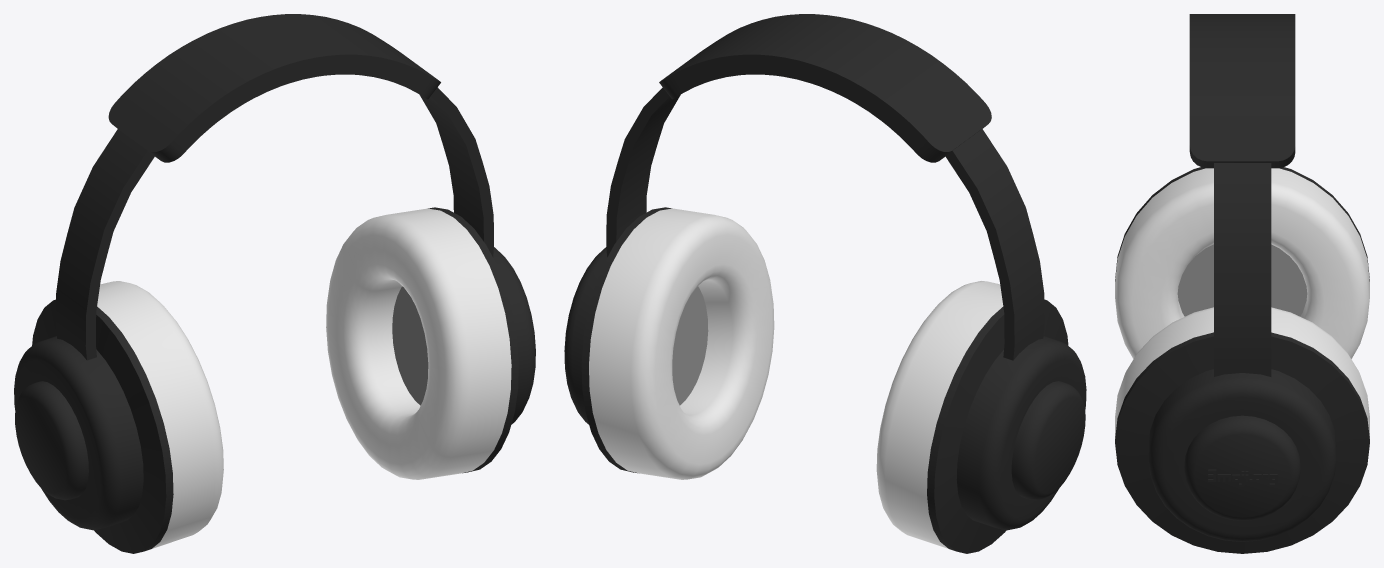
The model's file is headphone.gltf.
The picture shows the model from 3 angles, left to right: view 1: azimuth 30°, elevation 25°; view 2: azimuth 150°, elevation 25°; view 3: azimuth 270°, elevation 25°; orthographic projection. The views are drawn at different scales.
Parts seen in each view (by area): view 1: Cylinder.493; view 2: Cylinder.493; view 3: Cylinder.493.
Part boxes in pixels (bbox=[...]): Cylinder.493: bbox=[14, 14, 535, 553]; Cylinder.493: bbox=[564, 14, 1086, 553]; Cylinder.493: bbox=[1115, 14, 1369, 553].
Size of the model in its own units: 2.33 by 2.16 by 1.13.
1 material, 1 textured.
